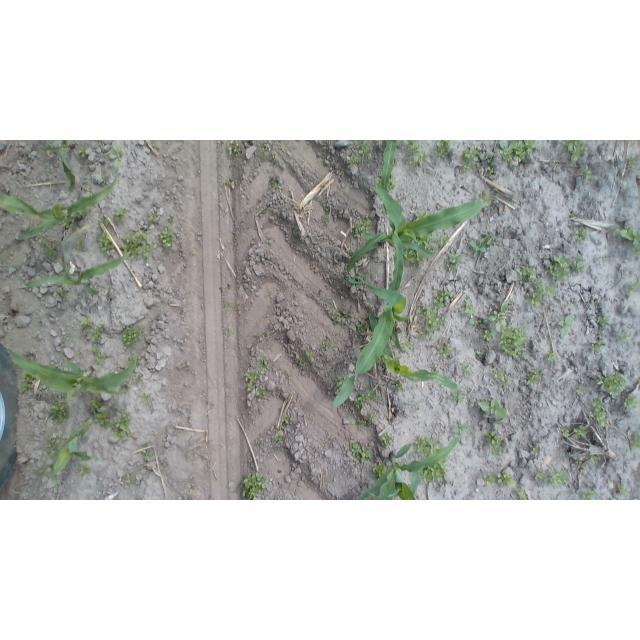Maize: (331, 216, 412, 408), (347, 188, 485, 284), (0, 171, 120, 240), (370, 313, 459, 404), (8, 347, 139, 406), (23, 226, 131, 296), (357, 439, 460, 500), (42, 419, 99, 490), (40, 141, 78, 191), (382, 140, 395, 190)
Weeds: (501, 328, 531, 360), (421, 305, 448, 335), (239, 472, 267, 500), (597, 373, 627, 398), (92, 325, 109, 364), (548, 253, 570, 281), (487, 305, 508, 332), (480, 399, 507, 420), (591, 399, 608, 427), (112, 412, 131, 437), (133, 232, 152, 256), (93, 400, 109, 428), (123, 325, 144, 346), (49, 402, 70, 423), (39, 239, 59, 259), (569, 141, 585, 164), (159, 226, 177, 246), (621, 228, 639, 248), (98, 233, 114, 255), (559, 314, 573, 339), (622, 277, 639, 297), (110, 147, 126, 168), (355, 391, 374, 408), (512, 142, 526, 163), (426, 469, 443, 486), (246, 369, 259, 391), (500, 141, 515, 160), (483, 230, 502, 245), (545, 469, 568, 481), (354, 220, 371, 236), (470, 240, 486, 257), (436, 290, 453, 306), (451, 419, 470, 433), (437, 140, 449, 160), (527, 369, 541, 386), (445, 257, 463, 270), (623, 395, 638, 410), (517, 267, 534, 280), (227, 141, 241, 156), (464, 299, 477, 315), (360, 446, 373, 462), (514, 484, 528, 498), (573, 425, 588, 438), (574, 255, 586, 271), (629, 431, 639, 450), (21, 376, 32, 393), (591, 339, 604, 353), (448, 393, 463, 405), (362, 413, 377, 425), (420, 442, 435, 454), (140, 394, 153, 407), (465, 149, 478, 162), (574, 227, 587, 240), (497, 471, 511, 483), (460, 363, 472, 376), (408, 140, 420, 153), (488, 432, 500, 445), (415, 152, 426, 166), (532, 291, 543, 305), (148, 213, 161, 224), (581, 167, 592, 180), (437, 463, 447, 477), (525, 140, 535, 154), (359, 141, 368, 156), (533, 280, 544, 292), (596, 317, 608, 328), (440, 347, 452, 358), (142, 448, 152, 461), (259, 359, 272, 369), (76, 240, 87, 251), (620, 330, 631, 341), (121, 238, 133, 248), (406, 251, 416, 263), (117, 207, 128, 217), (350, 278, 360, 289), (547, 285, 558, 295), (416, 437, 426, 448), (381, 433, 391, 444), (272, 433, 282, 444), (483, 329, 492, 341), (581, 491, 593, 500), (351, 443, 359, 456), (49, 437, 59, 447), (439, 236, 449, 246), (493, 369, 503, 379), (348, 413, 357, 424), (374, 462, 383, 473), (598, 255, 612, 262), (482, 473, 494, 481), (83, 320, 93, 329), (470, 316, 479, 326), (502, 378, 512, 387), (531, 444, 541, 453), (79, 466, 90, 474), (461, 161, 472, 169), (395, 380, 402, 392), (335, 374, 342, 386), (577, 386, 586, 395), (332, 315, 340, 325), (617, 483, 625, 493), (79, 149, 87, 158), (307, 349, 313, 361), (255, 390, 265, 397), (407, 340, 414, 350), (350, 153, 357, 163), (577, 460, 584, 470), (563, 427, 570, 437), (493, 444, 500, 454), (476, 349, 482, 360), (323, 342, 331, 350), (167, 214, 174, 223), (535, 472, 542, 481), (359, 323, 365, 333), (549, 353, 556, 361), (92, 453, 98, 462), (284, 415, 290, 424), (59, 288, 65, 296), (486, 167, 494, 173), (592, 455, 598, 463), (66, 334, 70, 341)
